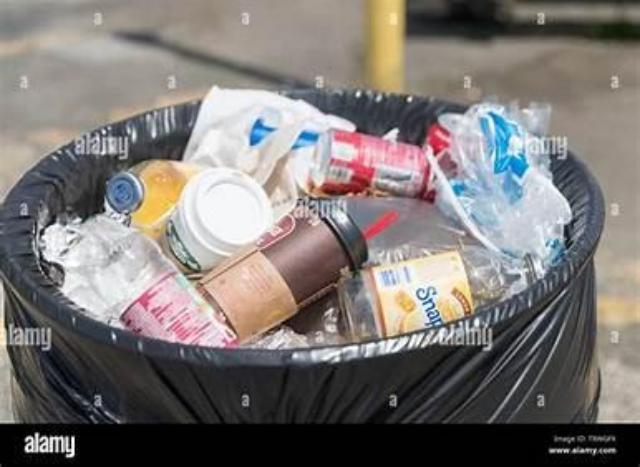Disposable: (199, 201, 367, 343), (161, 169, 273, 272)
Garbage: (41, 86, 571, 347)
Glass_bottle: (338, 241, 538, 340), (106, 160, 201, 238)
Plastic: (249, 117, 276, 146), (291, 131, 319, 150)
Plastic_Bag: (440, 105, 571, 266)
Plastic_bottle: (62, 216, 237, 347), (346, 197, 465, 264)
can: (292, 131, 435, 199)
